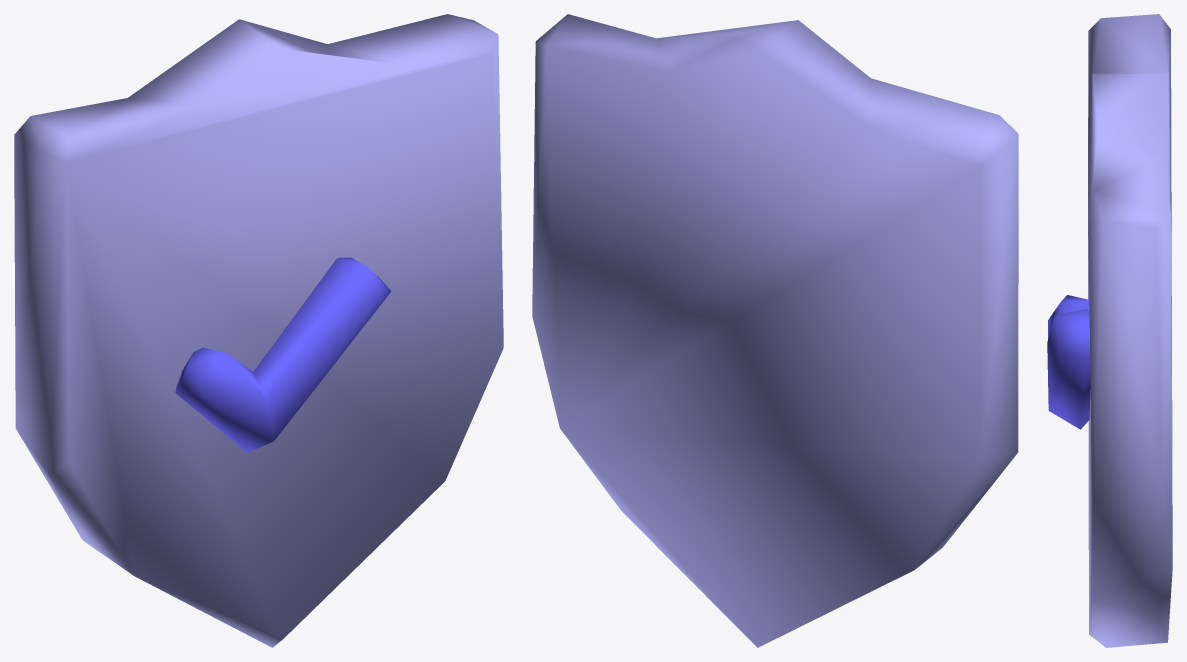
Rendered from invincibility.fbx.
3 renders of one model, left to right at view 1: azimuth 30°, elevation 25°; view 2: azimuth 150°, elevation 25°; view 3: azimuth 270°, elevation 25°, orthographic. The views are drawn at different scales.
Parts seen in each view (by area): view 1: Curve, Curve.002; view 2: Curve; view 3: Curve, Curve.002.
Part boxes in pixels (x1,y1,x2,y2): Curve: (14,14,503,647); Curve.002: (175,257,391,452); Curve: (532,14,1018,647); Curve: (1088,14,1172,647); Curve.002: (1047,295,1090,429).
Size of the model in its own units: 44.54 by 56.21 by 11.13.
